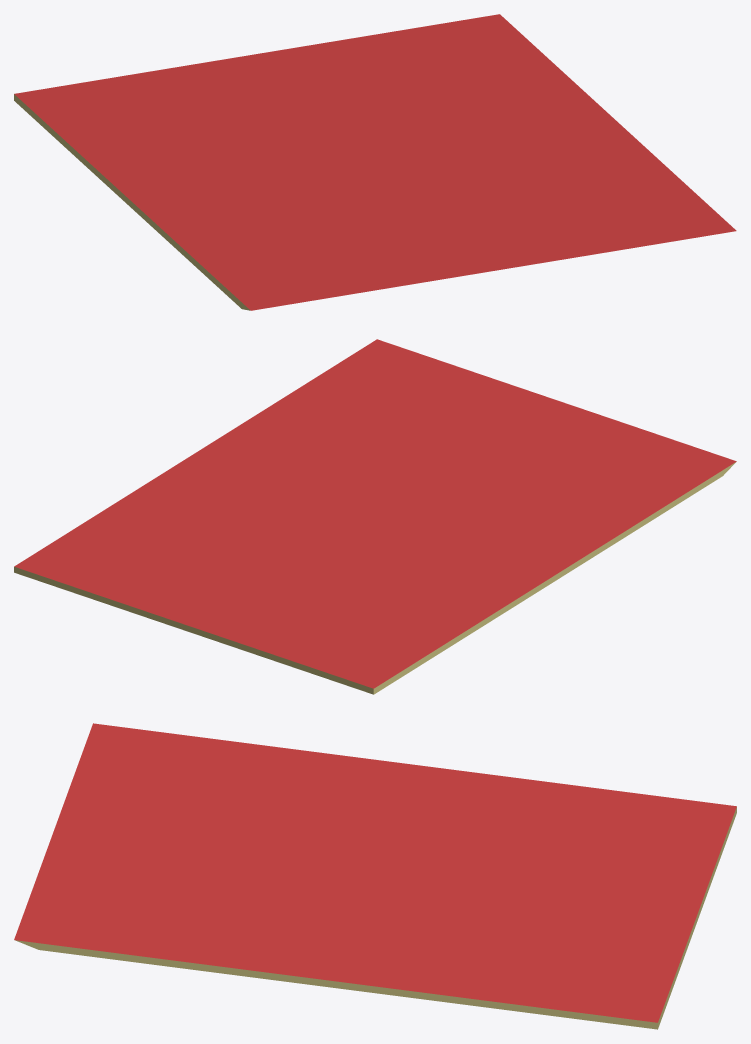
3 renders of one model, top to bottom at view 1: azimuth 30°, elevation 25°; view 2: azimuth 150°, elevation 25°; view 3: azimuth 270°, elevation 25°, orthographic. The views are drawn at different scales.
Size of the model in its own units: 8.23 by 9.72 by 0.706.
